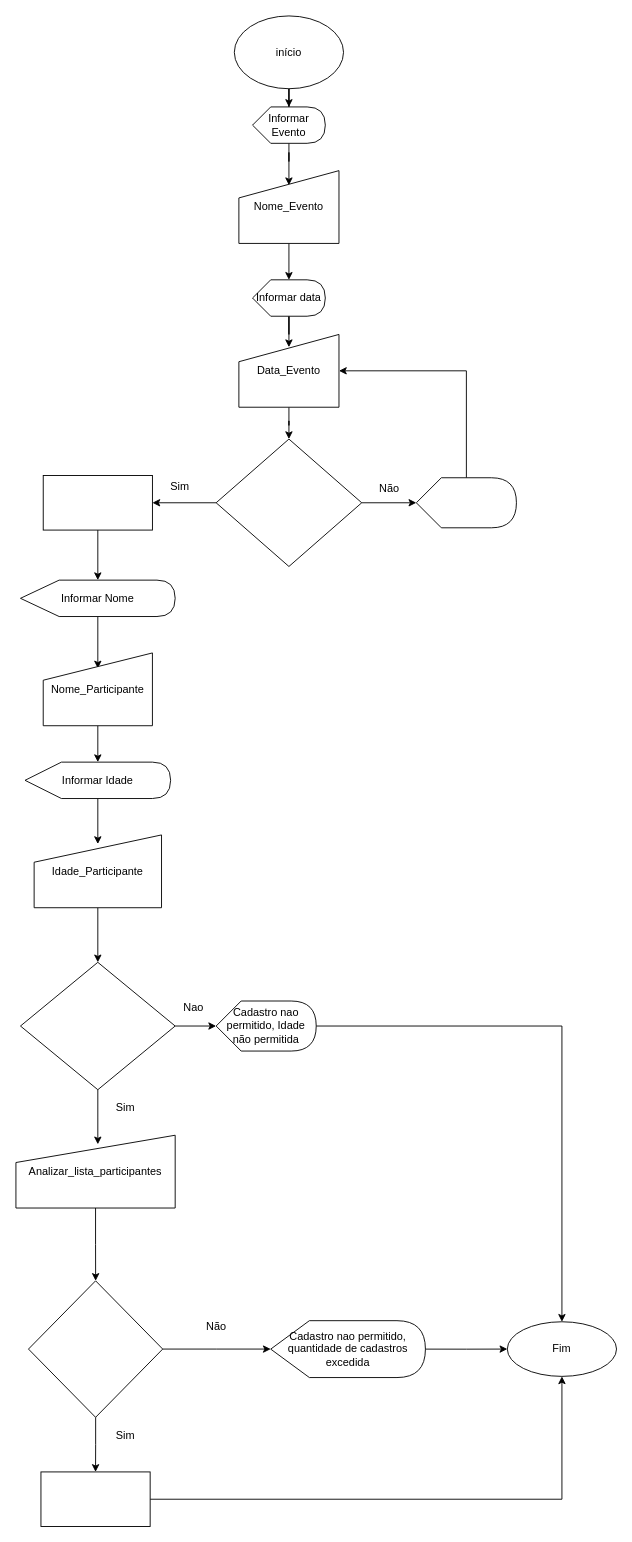
This 632x1542 diagram has some shape labels left out. The shapes that lost their labels are listed below. From the top down, each one's centre as x and y in pixels, then its label:
At pixel 97 502: "Cadastrar Evento".
At pixel 288 502: "A data informada é igual a de hoje ou futura?".
At pixel 465 502: "Cadastro nao permitido, informe data posterior".
At pixel 97 1025: "Idade do participante = ou + que 18?".
At pixel 95 1348: "Numero do cadastro = ou < 100?".
At pixel 95 1499: "Cadastrar Participante".
